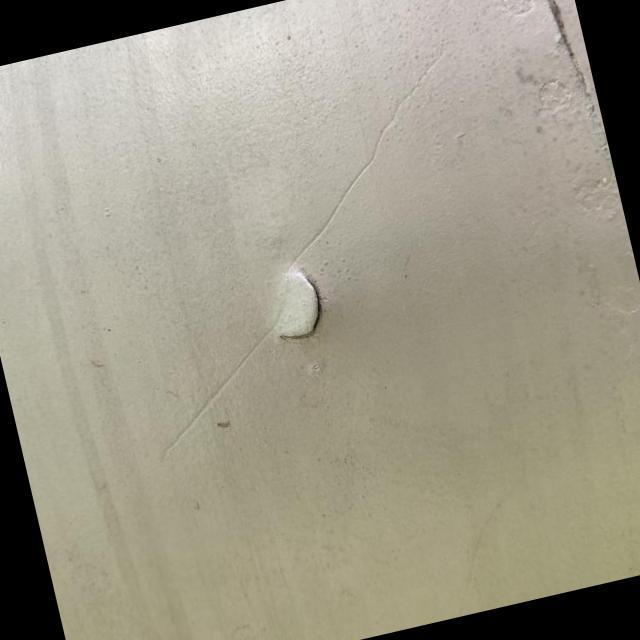Rupture: (240, 238, 358, 361)
